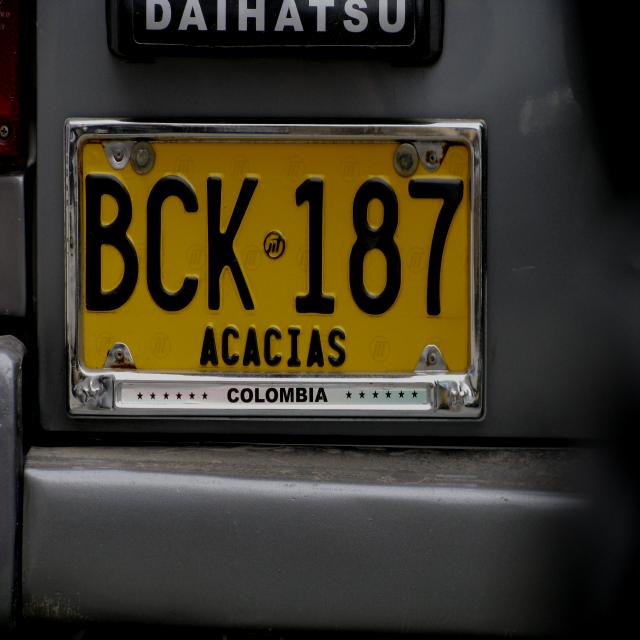placa: (74, 128, 472, 377)
